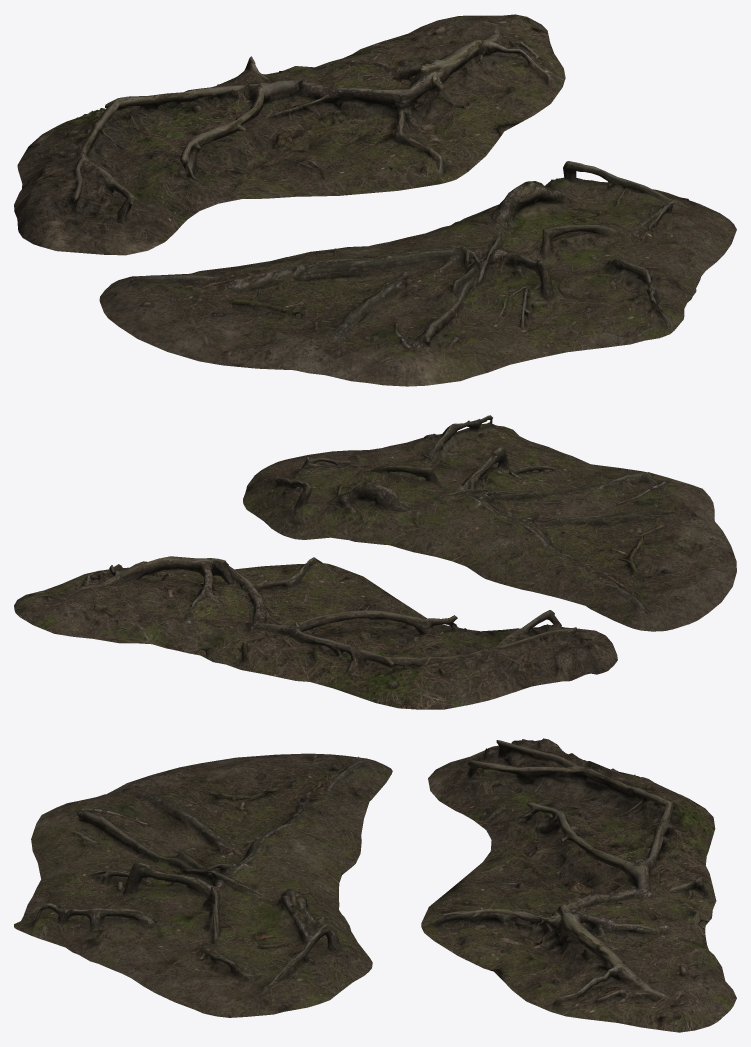
The model's file is pine_roots.glb.
3 renders of one model, top to bottom at view 1: azimuth 30°, elevation 25°; view 2: azimuth 150°, elevation 25°; view 3: azimuth 270°, elevation 25°, orthographic. The views are drawn at different scales.
Visible parts, largest first — view 1: pine_roots_b, pine_roots_a; view 2: pine_roots_b, pine_roots_a; view 3: pine_roots_b, pine_roots_a.
Boxes of the visible parts, x1,y1,x2,y2 form: pine_roots_b: (99,161,736,386); pine_roots_a: (14,14,565,255); pine_roots_b: (243,415,736,631); pine_roots_a: (14,556,617,709); pine_roots_b: (14,753,392,1017); pine_roots_a: (421,738,736,1032).
Size of the model in its own units: 1.77 by 0.1537 by 1.89.
2 materials, 2 textured.
